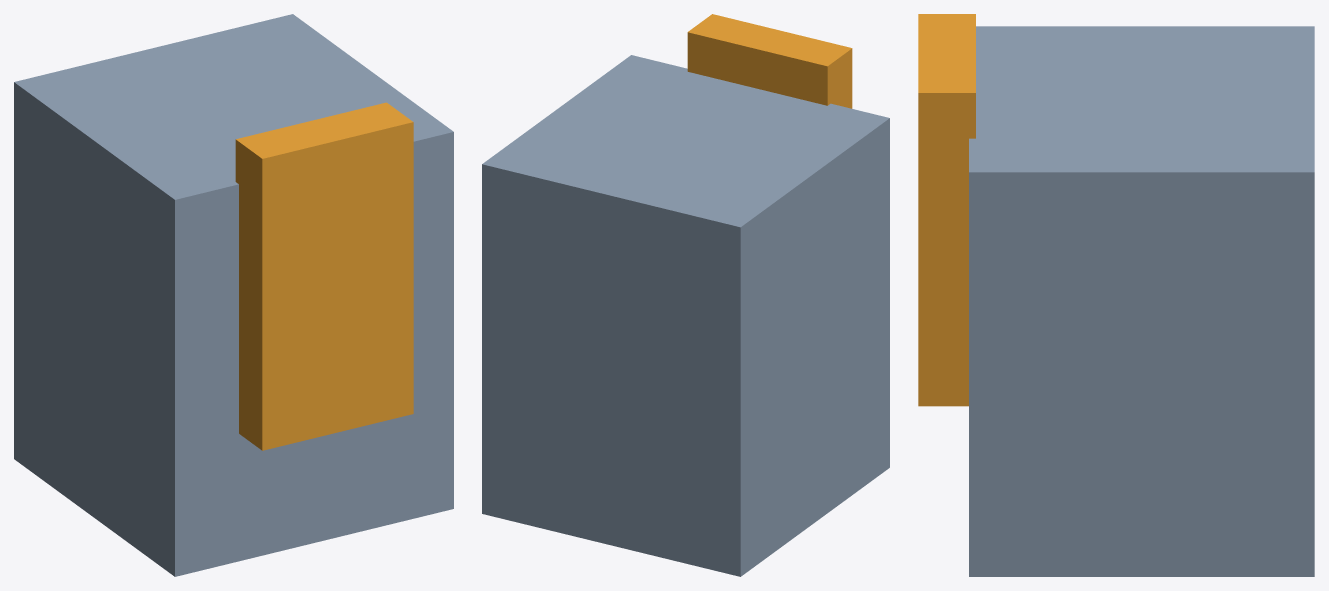
The model's file is legs-3.obj.
3 views of the same model, side by side, from view 1: azimuth 30°, elevation 25°; view 2: azimuth 150°, elevation 25°; view 3: azimuth 270°, elevation 25° (orthographic). The views are drawn at different scales.
Size of the model in its own units: 0.24 by 0.345 by 0.275.
